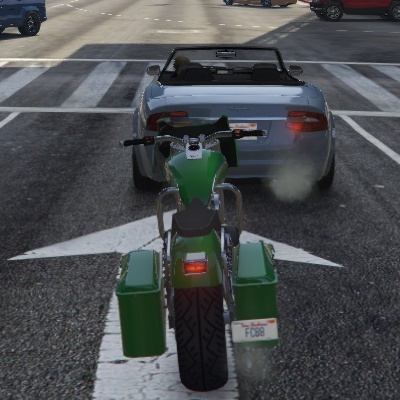on: (179, 250, 212, 279)
